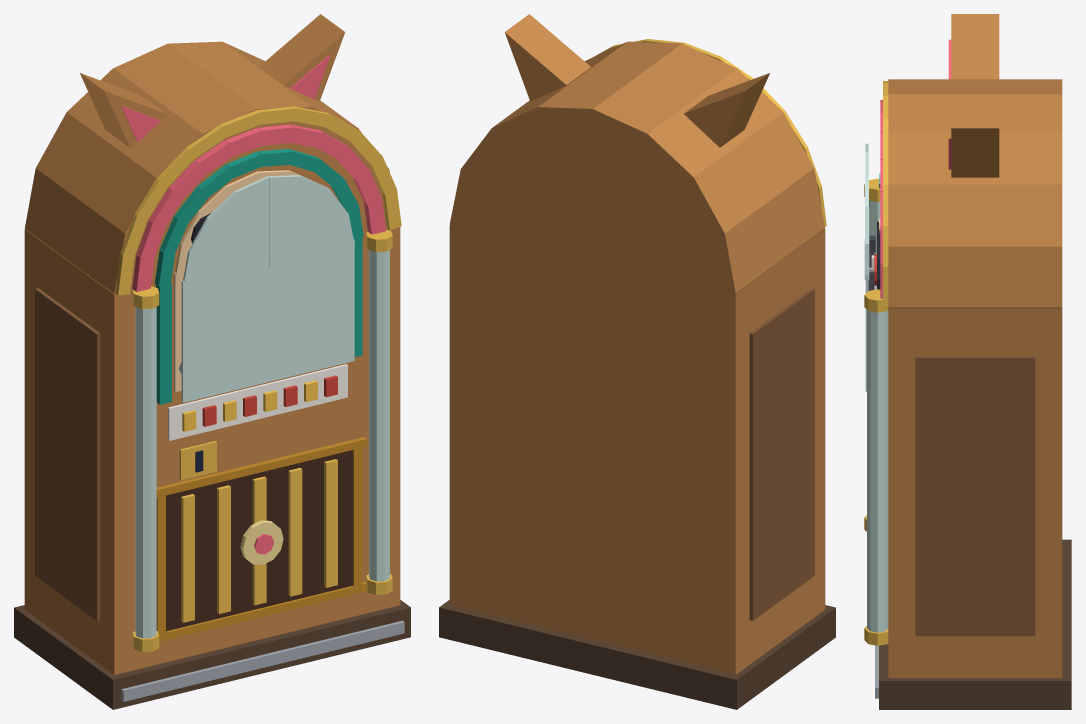
Rendered from CatCafe_Decor_RetroJukebox.fbx.
3 views of the same model, side by side, from view 1: azimuth 30°, elevation 25°; view 2: azimuth 150°, elevation 25°; view 3: azimuth 270°, elevation 25° (orthographic). The views are drawn at different scales.
Visible parts, largest first — view 1: CatCafe_Decor_RetroJukebox, CatCafe_Decor_RetroJukebox_Glass, CatCafe_Decor_RetroJukebox_Glow; view 2: CatCafe_Decor_RetroJukebox; view 3: CatCafe_Decor_RetroJukebox, CatCafe_Decor_RetroJukebox_Glow, CatCafe_Decor_RetroJukebox_Glass, CatCafe_Decor_RetroJukebox_Record_Spin.
Part boxes in pixels (box(x1,y1,x2,y2)): CatCafe_Decor_RetroJukebox: box(14, 14, 410, 709); CatCafe_Decor_RetroJukebox_Glass: box(181, 175, 354, 402); CatCafe_Decor_RetroJukebox_Glow: box(121, 54, 386, 404); CatCafe_Decor_RetroJukebox: box(439, 14, 835, 709); CatCafe_Decor_RetroJukebox: box(864, 14, 1071, 709); CatCafe_Decor_RetroJukebox_Glow: box(880, 39, 951, 298); CatCafe_Decor_RetroJukebox_Glass: box(864, 143, 869, 391); CatCafe_Decor_RetroJukebox_Record_Spin: box(869, 221, 880, 289).
Bounding box in the file's own units: 2.5 × 4.69 × 1.55.
1 material, 1 textured.
